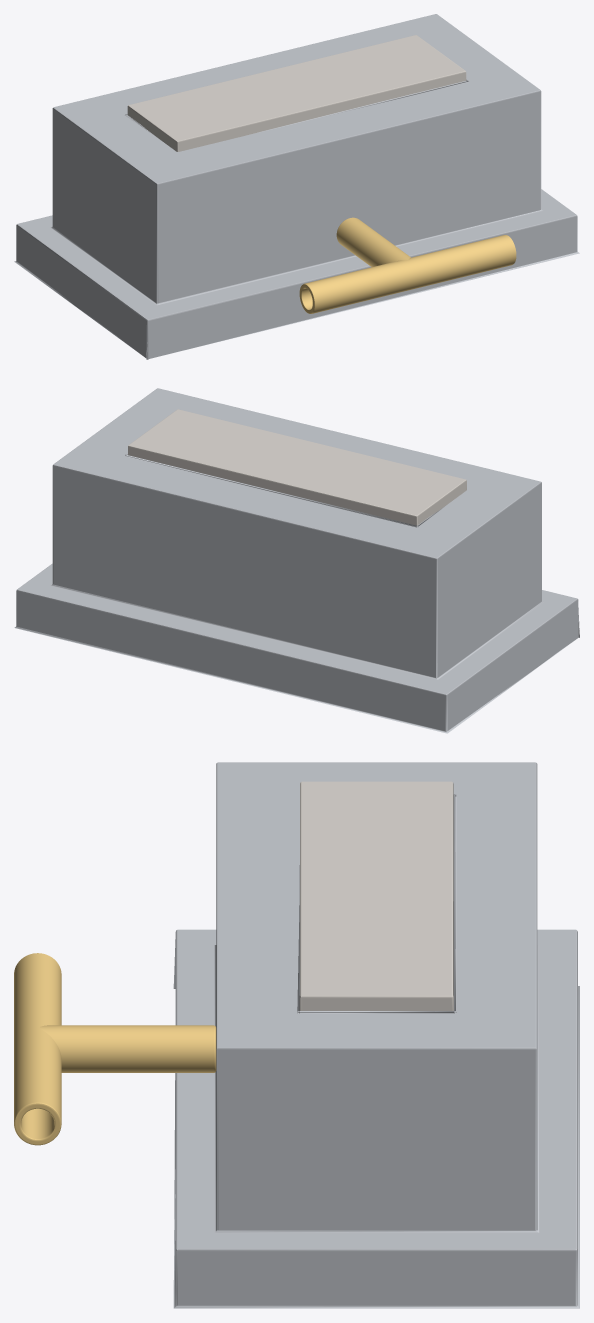
File: mould43.glb
The picture shows the model from 3 angles, top to bottom: view 1: azimuth 30°, elevation 25°; view 2: azimuth 150°, elevation 25°; view 3: azimuth 270°, elevation 25°; orthographic projection. The views are drawn at different scales.
Visible parts, largest first — view 1: MouldFrame, PressHead, Handle; view 2: MouldFrame, PressHead; view 3: MouldFrame, PressHead, Handle.
Boxes of the visible parts, x1,y1,x2,y2 form: MouldFrame: (14, 14, 579, 359); PressHead: (127, 35, 466, 151); Handle: (299, 217, 516, 313); MouldFrame: (14, 388, 579, 733); PressHead: (128, 409, 466, 525); MouldFrame: (173, 762, 579, 1308); PressHead: (299, 781, 453, 1010); Handle: (14, 953, 216, 1145).
Bounding box in the file's own units: 321 × 121 × 238.
